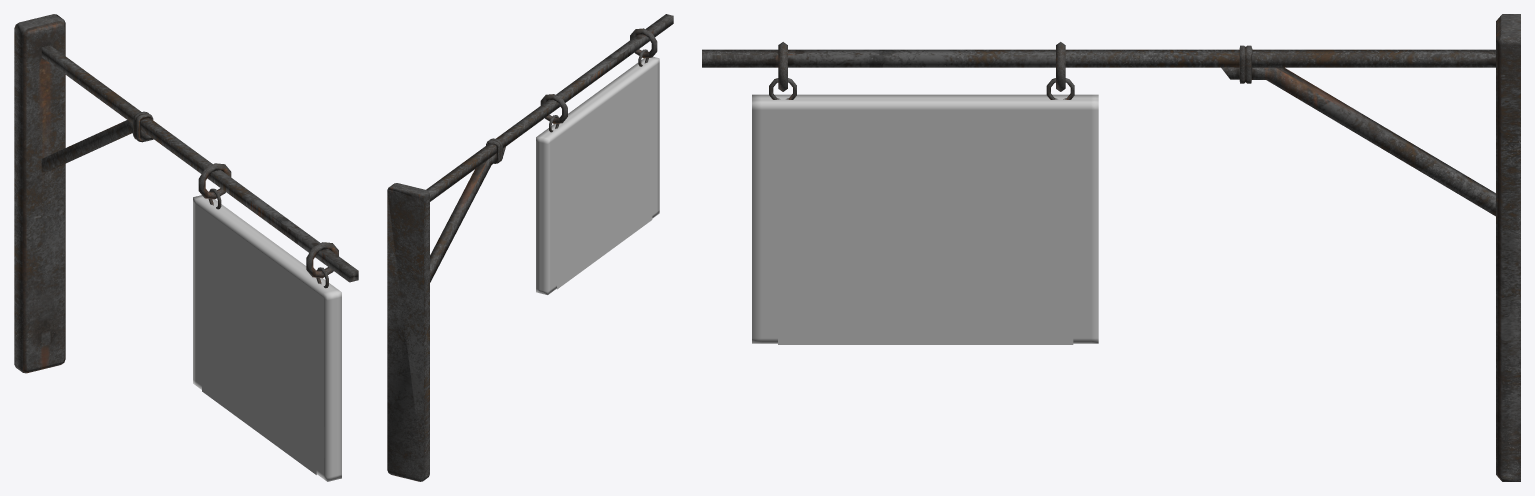
File: SignLibrary_mdl.fbx
3 renders of one model, left to right at view 1: azimuth 30°, elevation 25°; view 2: azimuth 150°, elevation 25°; view 3: azimuth 270°, elevation 25°, orthographic. The views are drawn at different scales.
Parts seen in each view (by area): view 1: SignLibrary_LOD0; view 2: SignLibrary_LOD0; view 3: SignLibrary_LOD0.
Part boxes in pixels (<box>): SignLibrary_LOD0: <box>14,14,358,481</box>; SignLibrary_LOD0: <box>387,14,673,481</box>; SignLibrary_LOD0: <box>702,14,1520,481</box>.
Bounding box in the file's own units: 16.19 × 121 × 202.
